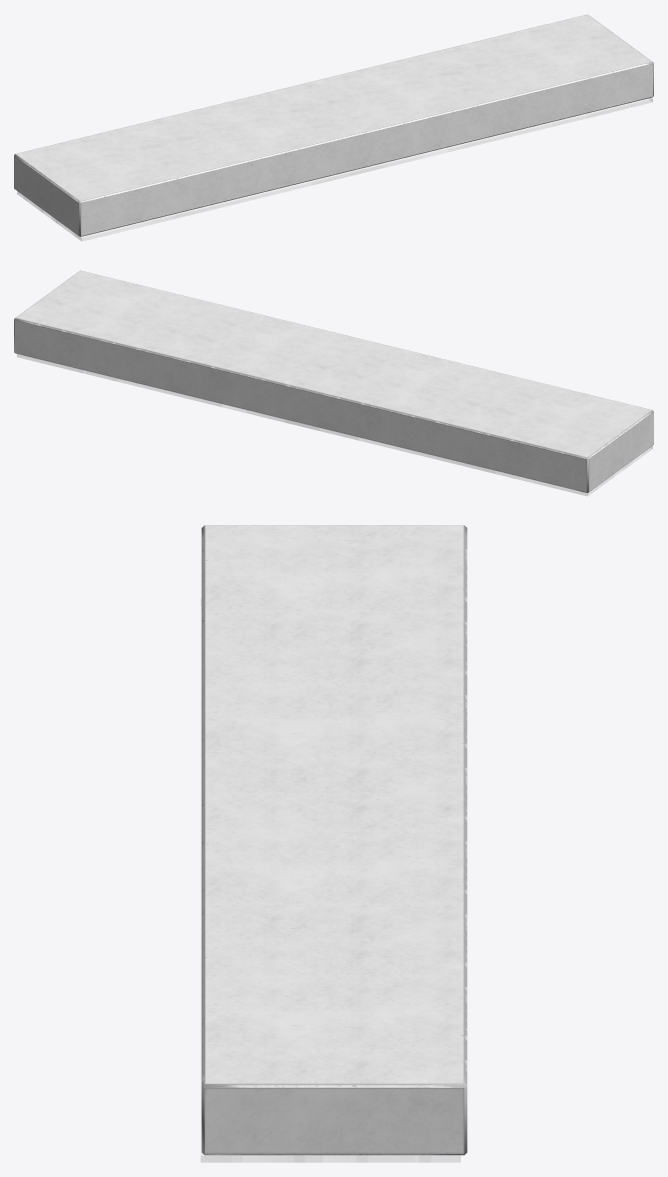
The model's file is lightBulb.fbx.
3 renders of one model, top to bottom at view 1: azimuth 30°, elevation 25°; view 2: azimuth 150°, elevation 25°; view 3: azimuth 270°, elevation 25°, orthographic. The views are drawn at different scales.
Visible parts, largest first — view 1: lightBulb; view 2: lightBulb; view 3: lightBulb.
Boxes of the visible parts, <box> form: lightBulb: <box>14,14,653,241</box>; lightBulb: <box>14,270,653,496</box>; lightBulb: <box>200,525,467,1162</box>.
Size of the model in its own units: 500 by 33.02 by 100.
